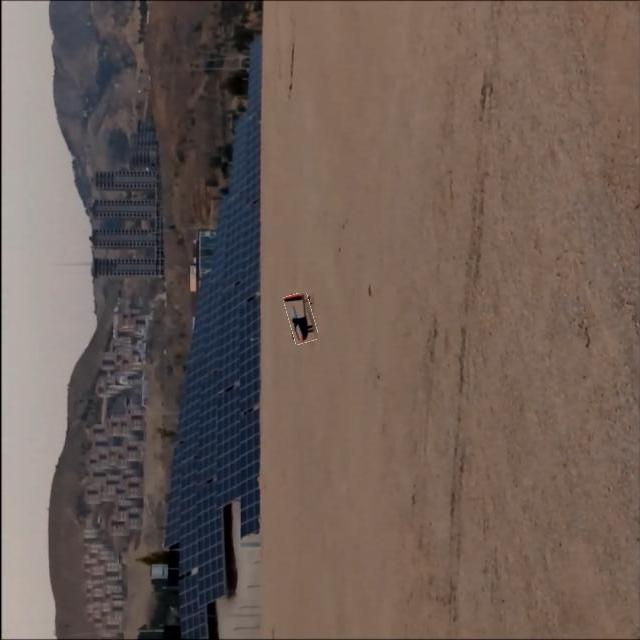plane: (280, 292, 317, 347)
